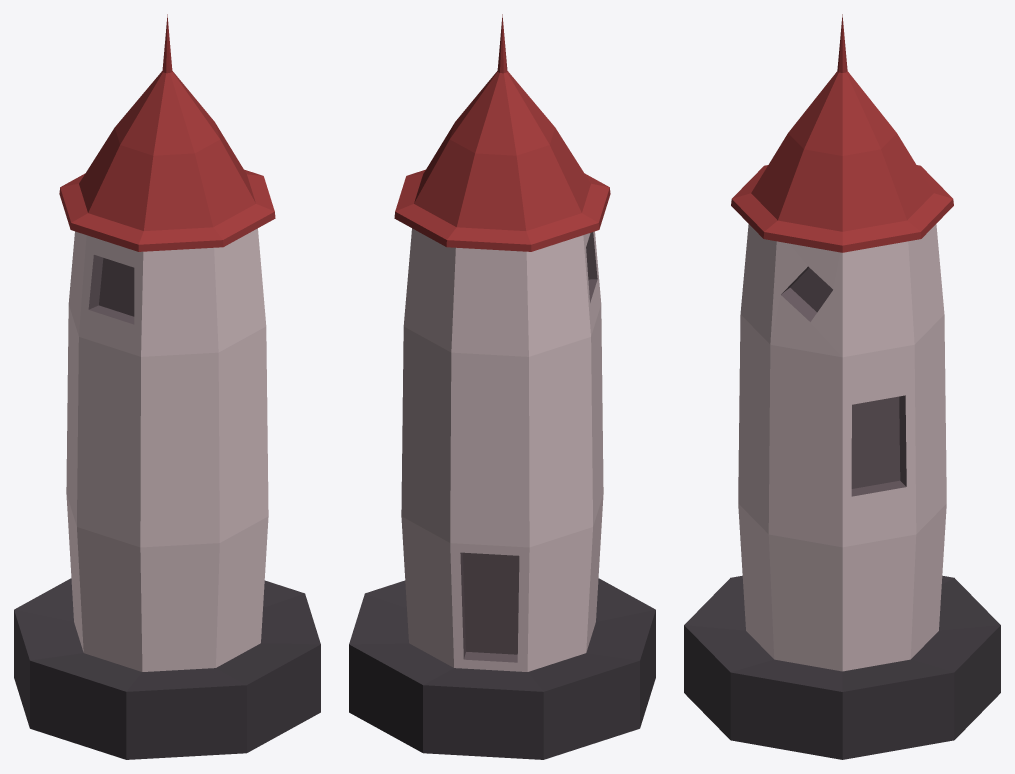
File: house.fbx
3 views of the same model, side by side, from view 1: azimuth 30°, elevation 25°; view 2: azimuth 150°, elevation 25°; view 3: azimuth 270°, elevation 25° (orthographic).
Parts seen in each view (by area): view 1: mid_building; view 2: mid_building; view 3: mid_building.
Part boxes in pixels (box(x1,y1,x2,y2)): mid_building: box(14, 14, 320, 759); mid_building: box(349, 14, 655, 759); mid_building: box(684, 14, 1000, 759).
Bounding box in the file's own units: 4031 × 9534 × 4031.
